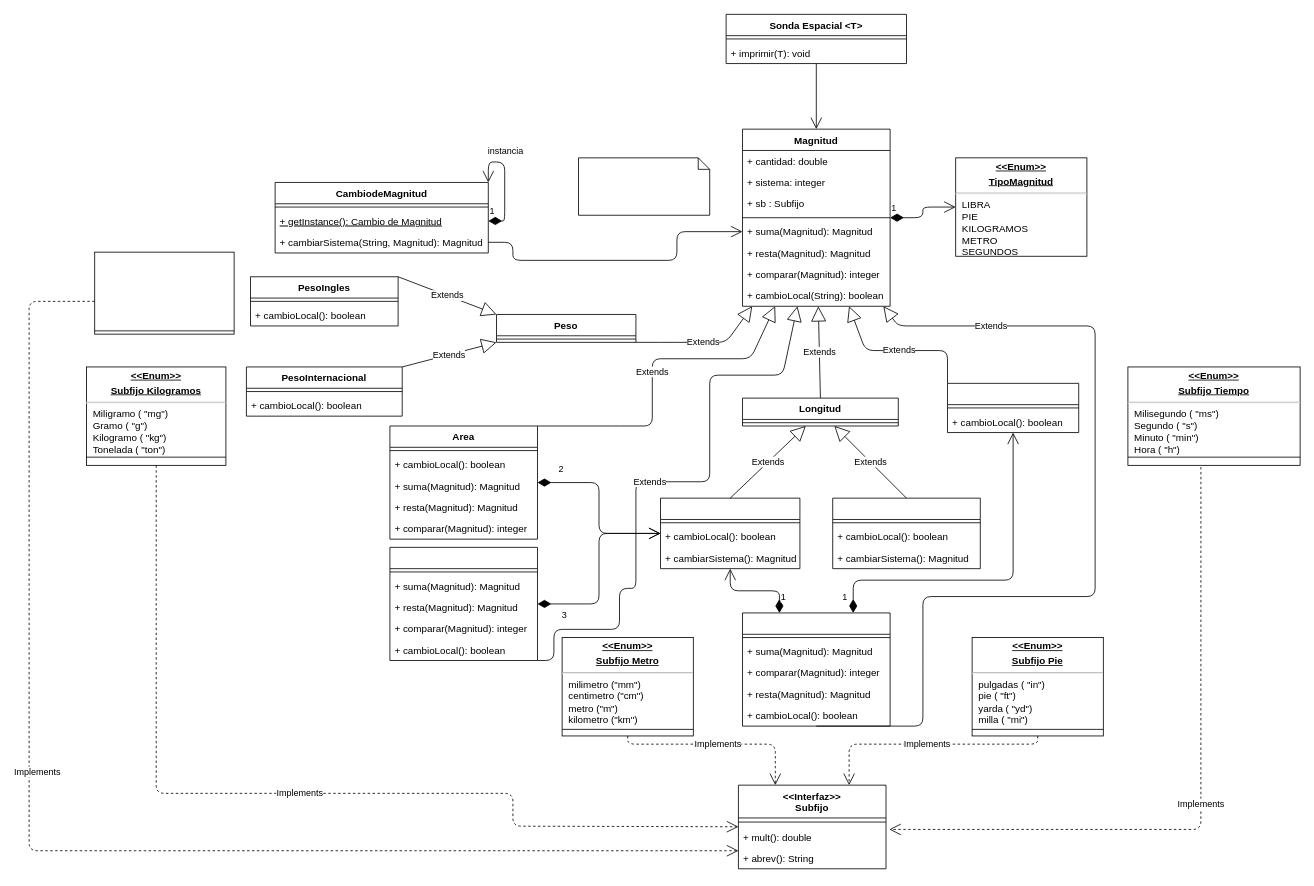
The diagram is 1314 pixels wide and 886 high, and some of its shapes have lost their labels. The shapes that lost their labels are listed below. From the top down, each one's box as (x1, y1, x2, y2) in pixels, then its label:
(578, 157, 710, 215): Sistema = 1 Sistema Internacional Sistema =2 Sistema Ingles
(94, 251, 234, 334): <<Enum>> Subfijo Libra Grano ( "gr") Libra ( "lb") Onza ( "oz")
(947, 383, 1079, 433): Tiempo
(660, 497, 800, 569): LongInternacional
(832, 497, 980, 569): LongIngles
(389, 547, 538, 661): Superficie
(742, 612, 890, 726): Velocidad
